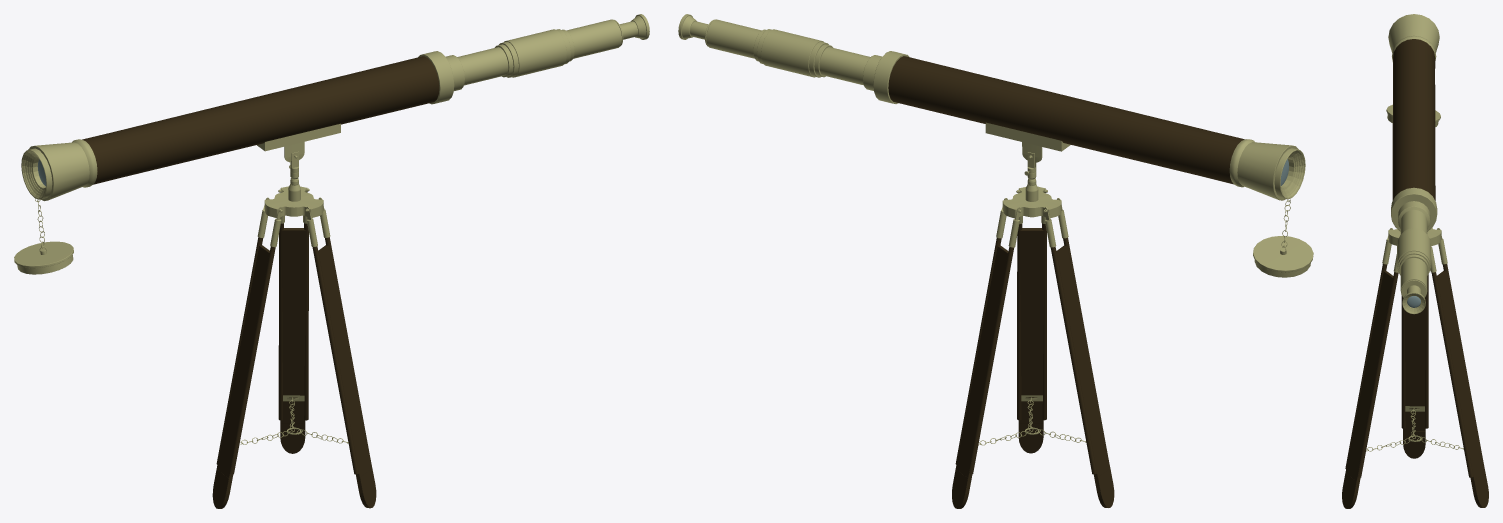
Rendered from Telescope UV.fbx.
3 renders of one model, left to right at view 1: azimuth 30°, elevation 25°; view 2: azimuth 150°, elevation 25°; view 3: azimuth 270°, elevation 25°, orthographic. The views are drawn at different scales.
Parts seen in each view (by area): view 1: polySurface7, polySurface121, polySurface116, polySurface124, pCylinder20, pCylinder26, pCube2; view 2: polySurface7, polySurface124, polySurface121, polySurface116, pCylinder20, pCube2, pCylinder26; view 3: polySurface7, polySurface124, polySurface121, polySurface116, pCylinder26.
Part boxes in pixels (left/top/right/bottom): polySurface7: left=21, top=14, right=649, bottom=201; polySurface121: left=278, top=187, right=308, bottom=453; polySurface116: left=212, top=197, right=281, bottom=508; polySurface124: left=306, top=197, right=376, bottom=508; pCylinder20: left=14, top=241, right=73, bottom=274; pCylinder26: left=264, top=186, right=323, bottom=217; pCube2: left=257, top=123, right=340, bottom=162; polySurface7: left=678, top=14, right=1305, bottom=200; polySurface124: left=1017, top=188, right=1046, bottom=453; polySurface121: left=952, top=198, right=1020, bottom=508; polySurface116: left=1044, top=198, right=1114, bottom=507; pCylinder20: left=1253, top=236, right=1313, bottom=277; pCube2: left=985, top=122, right=1070, bottom=162; pCylinder26: left=1002, top=186, right=1061, bottom=218; polySurface7: left=1388, top=14, right=1439, bottom=314; polySurface124: left=1342, top=228, right=1398, bottom=508; polySurface121: left=1430, top=228, right=1488, bottom=507; polySurface116: left=1401, top=274, right=1428, bottom=458; pCylinder26: left=1388, top=227, right=1441, bottom=246.
Bounding box in the file's own units: 10 × 6.19 × 2.26.
